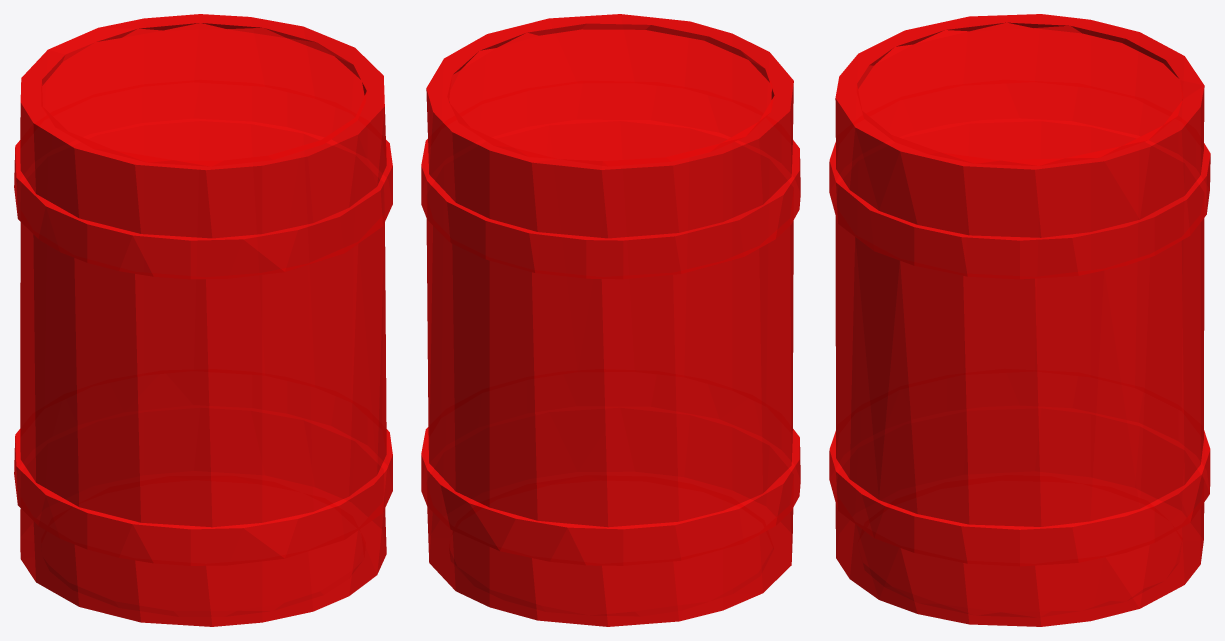
The model's file is barrel.fbx.
The picture shows the model from 3 angles, left to right: view 1: azimuth 30°, elevation 25°; view 2: azimuth 150°, elevation 25°; view 3: azimuth 270°, elevation 25°; orthographic projection.
Parts seen in each view (by area): view 1: Cylinder; view 2: Cylinder; view 3: Cylinder.
Boxes of the visible parts, left/top/right/bottom form: Cylinder: left=14, top=14, right=392, bottom=626; Cylinder: left=421, top=14, right=800, bottom=626; Cylinder: left=829, top=14, right=1210, bottom=626.
Size of the model in its own units: 207 by 274 by 207.
